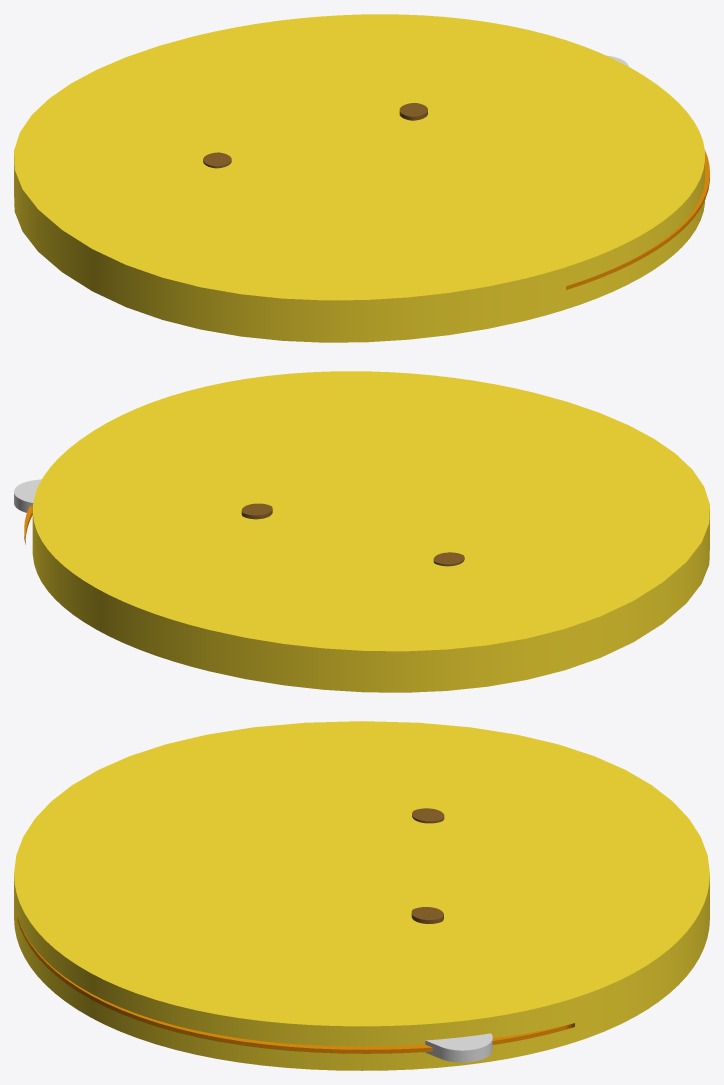
The model's file is emoji_u1f912.glb.
3 renders of one model, top to bottom at view 1: azimuth 30°, elevation 25°; view 2: azimuth 150°, elevation 25°; view 3: azimuth 270°, elevation 25°, orthographic. The views are drawn at different scales.
Parts seen in each view (by area): view 1: emoji_u1f912; view 2: emoji_u1f912; view 3: emoji_u1f912.
Part boxes in pixels (left/top/right/bottom): emoji_u1f912: left=14, top=14, right=709, bottom=342; emoji_u1f912: left=14, top=371, right=709, bottom=692; emoji_u1f912: left=14, top=721, right=709, bottom=1070.
Bounding box in the file's own units: 0.0333 × 0.0026 × 0.0312.
